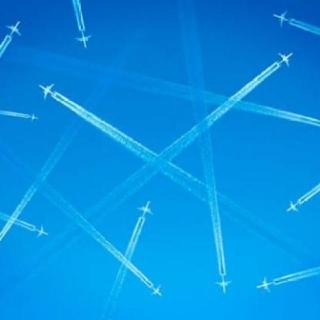Contrails: (57, 52, 291, 270)
